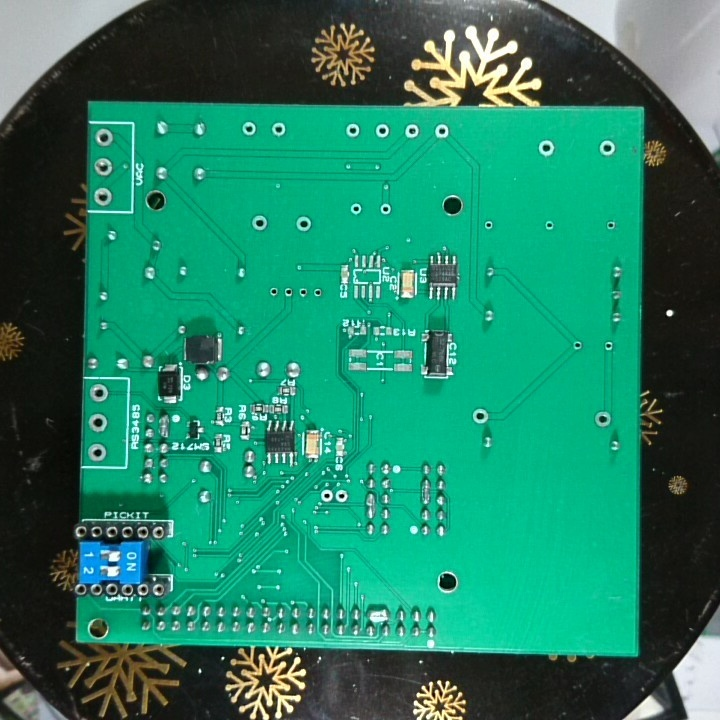F: (88, 381, 111, 406), (92, 126, 116, 149), (91, 185, 115, 208), (91, 155, 114, 178), (85, 441, 109, 463), (87, 412, 108, 435), (536, 138, 557, 160), (249, 213, 271, 234), (470, 406, 491, 427), (403, 120, 422, 142), (594, 409, 613, 429), (597, 138, 616, 158), (342, 122, 363, 140), (239, 119, 257, 139), (433, 122, 450, 143), (269, 120, 288, 138), (294, 214, 313, 232), (334, 487, 351, 506), (373, 122, 391, 139), (310, 283, 325, 303), (570, 337, 586, 355), (319, 487, 334, 506), (377, 200, 392, 218), (542, 216, 556, 235), (295, 283, 309, 302), (267, 284, 282, 300), (348, 200, 362, 217), (282, 284, 296, 301), (600, 339, 614, 355), (604, 218, 617, 233), (482, 217, 494, 233)
P: (364, 604, 391, 624), (156, 410, 171, 441), (363, 489, 377, 520), (419, 475, 433, 506)
